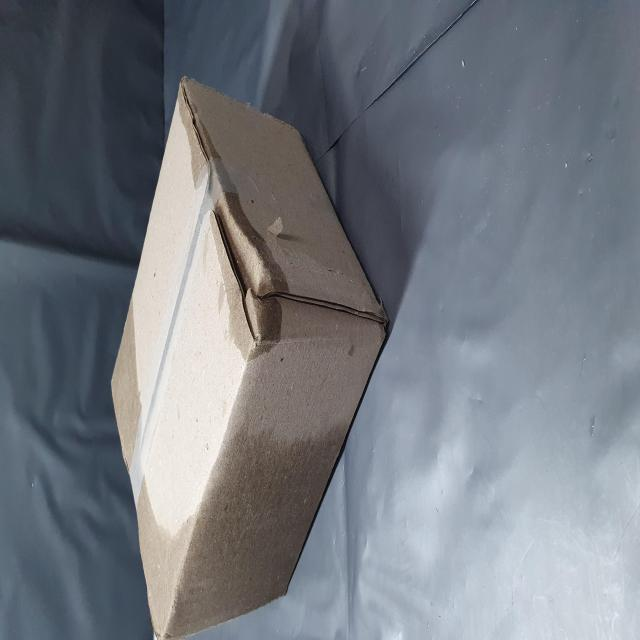wet: (0, 178, 184, 633)
